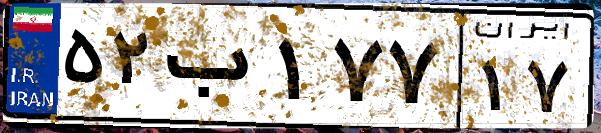1: (270, 28, 330, 110), (475, 38, 525, 113)
2: (110, 28, 158, 98)
5: (57, 26, 110, 100)
7: (385, 28, 445, 110), (330, 28, 385, 110), (525, 38, 570, 115)
ب: (158, 20, 270, 120)
